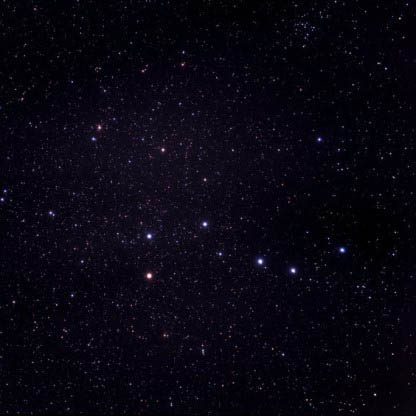Ursa Major: (191, 211, 215, 234), (281, 260, 303, 279), (334, 242, 353, 263), (140, 267, 161, 284), (250, 251, 267, 272), (140, 228, 159, 246), (212, 245, 227, 262)
